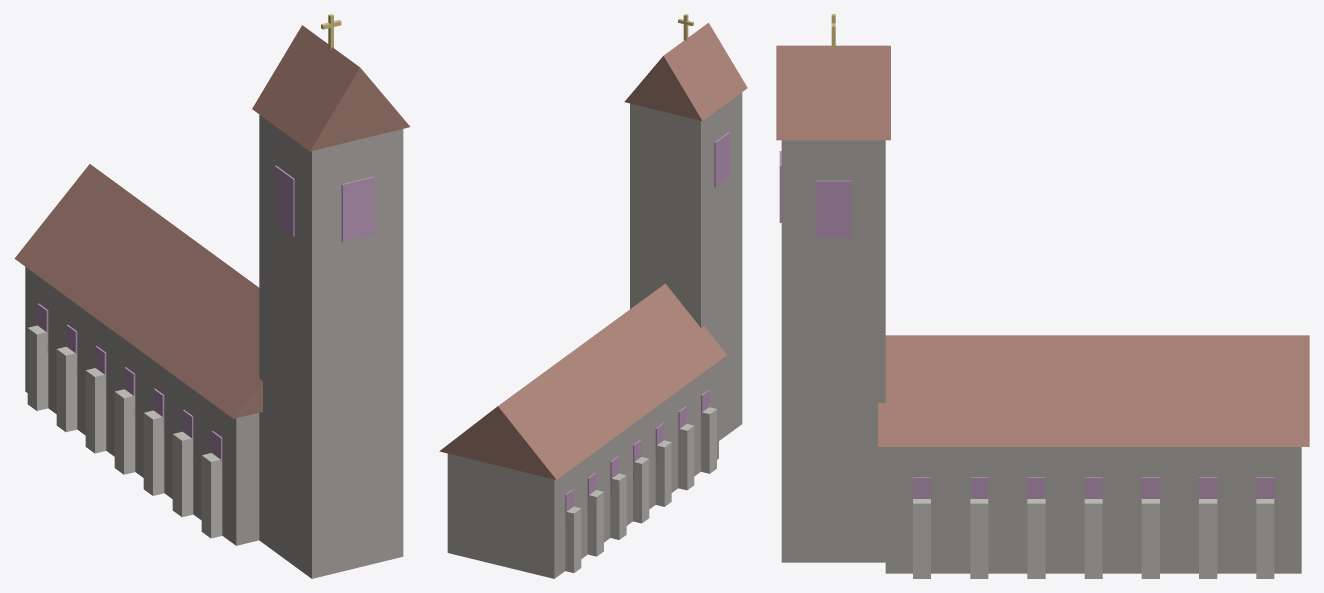
Rendered from church.glb.
The picture shows the model from 3 angles, left to right: view 1: azimuth 30°, elevation 25°; view 2: azimuth 150°, elevation 25°; view 3: azimuth 270°, elevation 25°; orthographic projection. The views are drawn at different scales.
Visible parts, largest first — view 1: Church; view 2: Church; view 3: Church.
Boxes of the visible parts, x1,y1,x2,y2 form: Church: [14, 14, 409, 578]; Church: [439, 14, 747, 578]; Church: [776, 14, 1309, 578].
Bounding box in the file's own units: 7 × 22.3 × 20.5.
